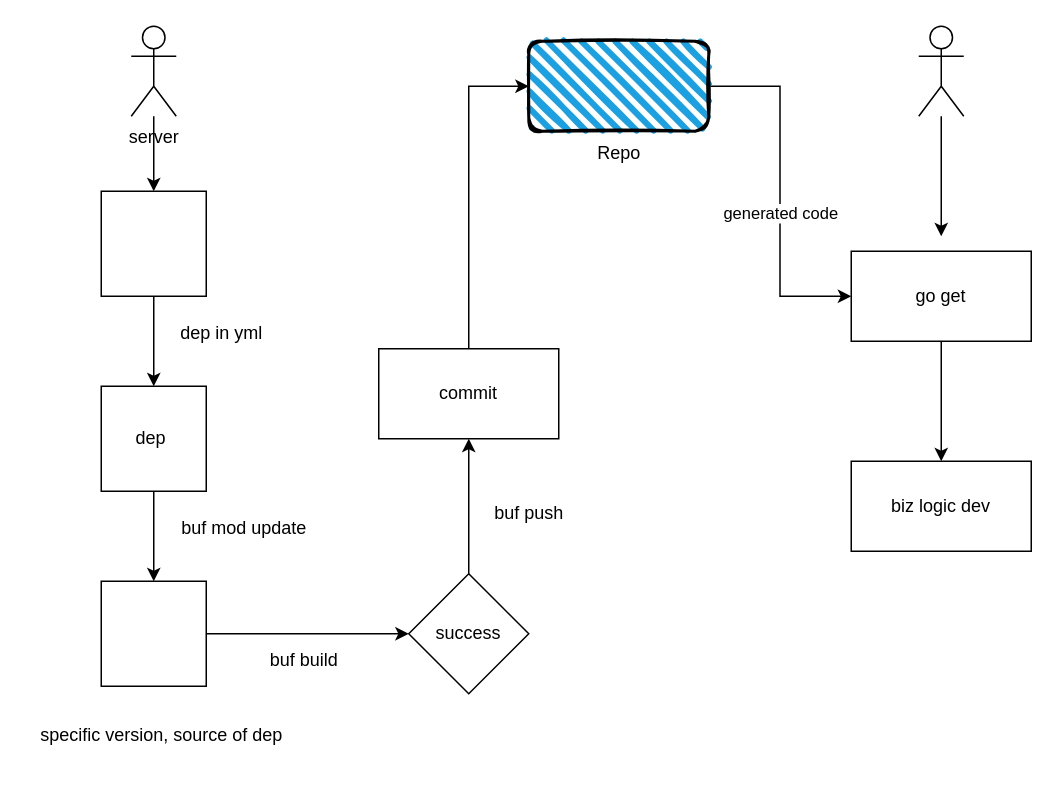
The diagram is 1058 pixels wide and 785 high, and some of its shapes have lost their labels. Here are the shapes that lost their labels. From the top down, the centre of each, then its label:
At (940,70): "client".
At (153,243): "buf.yml".
At (153,633): "buf.lock".
